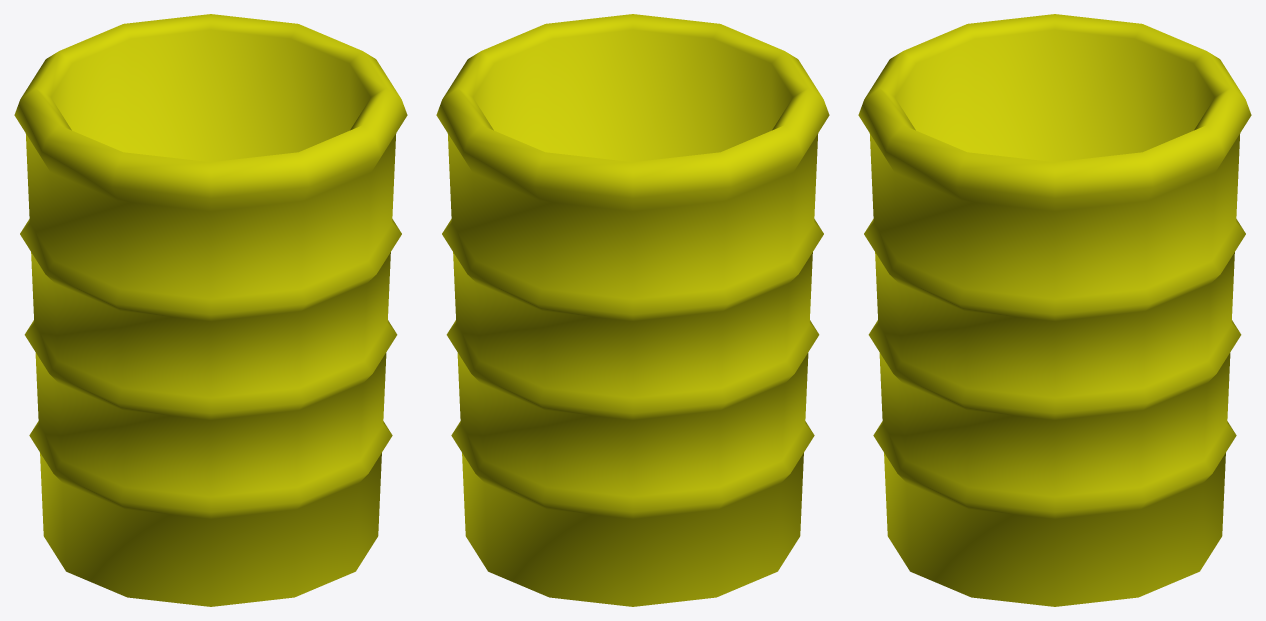
The model's file is Barrel.fbx.
3 renders of one model, left to right at view 1: azimuth 30°, elevation 25°; view 2: azimuth 150°, elevation 25°; view 3: azimuth 270°, elevation 25°, orthographic.
Visible parts, largest first — view 1: Barrel; view 2: Barrel; view 3: Barrel.
Boxes of the visible parts, bbox=[...] form: Barrel: bbox=[14, 14, 407, 606]; Barrel: bbox=[436, 14, 829, 606]; Barrel: bbox=[858, 14, 1251, 606].
Size of the model in its own units: 124 by 156 by 124.
